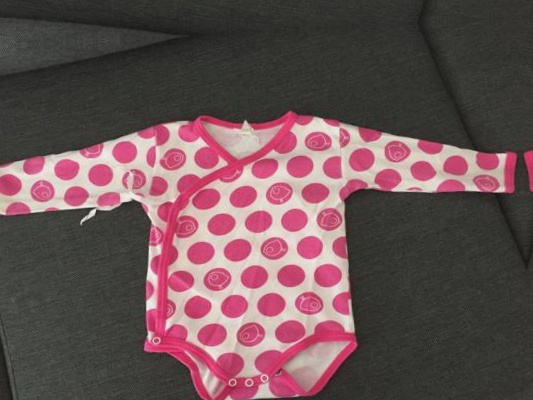Body: (0, 79, 523, 400), (527, 48, 533, 384)
